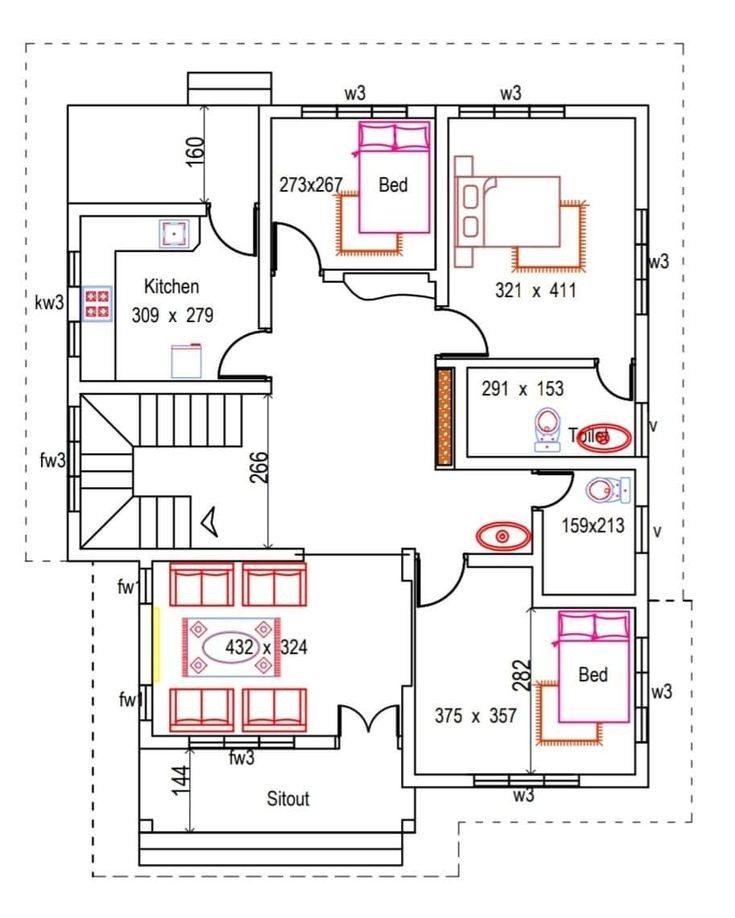door: (211, 313, 300, 403), (334, 695, 405, 789), (276, 209, 333, 296), (414, 542, 477, 616), (202, 187, 264, 262), (425, 298, 498, 356), (522, 473, 580, 520)
room: (414, 471, 651, 792), (59, 93, 290, 393), (133, 564, 427, 753), (448, 102, 647, 367), (261, 92, 450, 343), (65, 382, 280, 566), (277, 310, 436, 541), (429, 360, 644, 482)
wall: (251, 107, 287, 331), (454, 448, 648, 484), (75, 543, 318, 567), (83, 374, 273, 403), (400, 549, 423, 788), (432, 110, 457, 313), (80, 193, 214, 228), (302, 538, 420, 577), (61, 92, 190, 127), (626, 103, 659, 206), (450, 357, 477, 475), (565, 99, 650, 134), (451, 359, 609, 377), (629, 318, 659, 406), (404, 763, 473, 798), (577, 764, 652, 795), (133, 716, 191, 756), (132, 607, 161, 687), (61, 98, 75, 241), (632, 559, 657, 634), (61, 507, 87, 567), (64, 357, 95, 407), (293, 727, 337, 760), (632, 746, 655, 785)
window: (64, 402, 91, 517), (629, 214, 662, 307), (190, 734, 293, 762), (464, 100, 568, 127), (632, 635, 652, 749), (295, 103, 411, 120), (630, 502, 661, 559), (65, 250, 91, 288), (68, 321, 93, 356)
